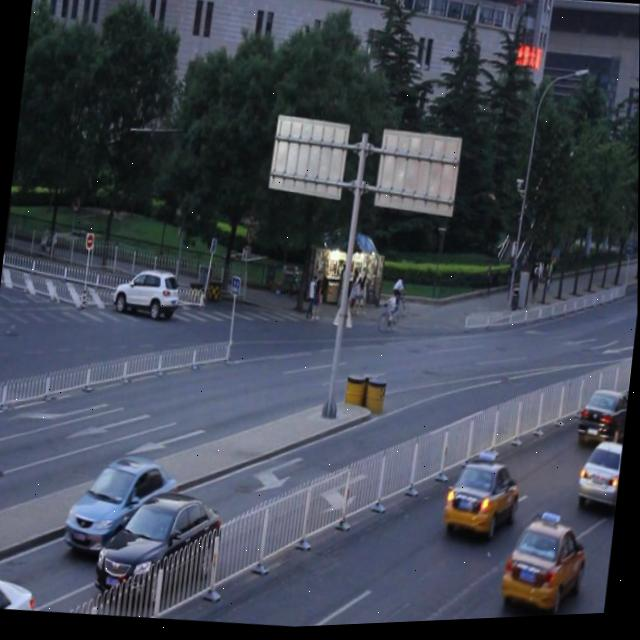car: (94, 483, 226, 605), (64, 450, 180, 558), (500, 513, 589, 619), (440, 455, 525, 546), (112, 263, 182, 325), (573, 441, 624, 514), (574, 386, 630, 451), (0, 558, 39, 612)
